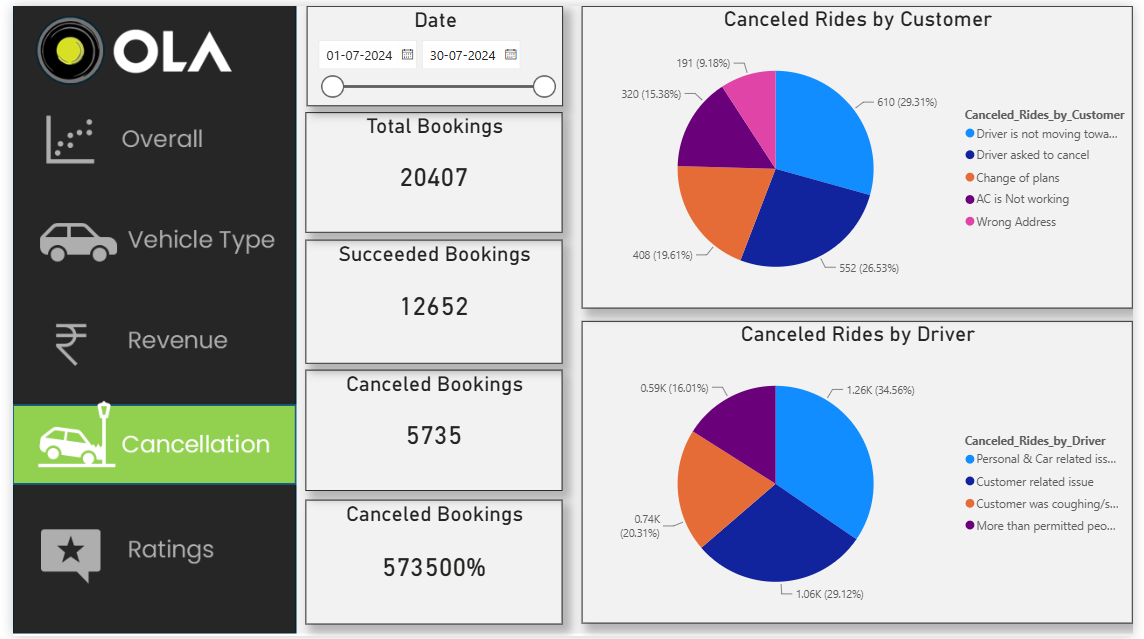

Layout of this report page (visuals, bound fields, positions):
{"tool":"powerbi","page":{"name":"Cancellation","canvas":[1280,720],"ordinal":3},"visuals":[{"type":"actionButton","box":[0,578.4,326.7,88.4],"z":0},{"type":"actionButton","box":[0,101.8,326.7,88.4],"z":1000},{"type":"actionButton","box":[0,229.2,326.9,89.3],"z":2000},{"type":"actionButton","box":[0,337.4,326.7,91],"z":3000},{"type":"actionButton","box":[0,575.7,326.7,91],"z":4000},{"type":"slicer","title":"Date","fields":{"Values":["July.Date"]},"box":[335.4,0,293.2,114.6],"z":5000},{"type":"card","title":"Succeeded Bookings","fields":{"Values":["Count(July.Booking_ID)"]},"box":[335,267.5,293.8,141.2],"z":6000},{"type":"card","title":"Total Bookings","fields":{"Values":["Count(July.Booking_ID)"]},"box":[335,121.2,293.8,137.5],"z":7000},{"type":"card","title":"Canceled Bookings ","fields":{"Values":["Count(July)"]},"box":[335,415,293.8,138.8],"z":8000},{"type":"card","title":"Canceled Bookings ","fields":{"Values":["Count(July)"]},"box":[335,563.8,293.8,142.5],"z":9000},{"type":"pieChart","title":"Canceled Rides by Customer","fields":{"Category":["July.Canceled_Rides_by_Customer"],"Y":["CountNonNull(July.Booking_ID)"]},"box":[650.5,0,629.9,345.7],"z":9001},{"type":"pieChart","title":"Canceled Rides by Driver","fields":{"Category":["July.Canceled_Rides_by_Driver"],"Y":["CountNonNull(July.Booking_ID)"]},"box":[650.5,360.1,629.9,345.7],"z":9002}]}

Visuals, with their boxes in screenshot pixels (x1, y1, x2, y2), scaled from the page's 1280x720 canvas onto the 1144x639 screenshot:
actionButton: detection(0, 513, 292, 592)
actionButton: detection(0, 90, 292, 169)
actionButton: detection(0, 203, 292, 283)
actionButton: detection(0, 299, 292, 380)
actionButton: detection(0, 511, 292, 592)
"Date" slicer: detection(300, 0, 562, 102)
"Succeeded Bookings" card: detection(299, 237, 562, 363)
"Total Bookings" card: detection(299, 108, 562, 230)
"Canceled Bookings " card: detection(299, 368, 562, 491)
"Canceled Bookings " card: detection(299, 500, 562, 627)
"Canceled Rides by Customer" pieChart: detection(581, 0, 1143, 307)
"Canceled Rides by Driver" pieChart: detection(581, 320, 1143, 626)
